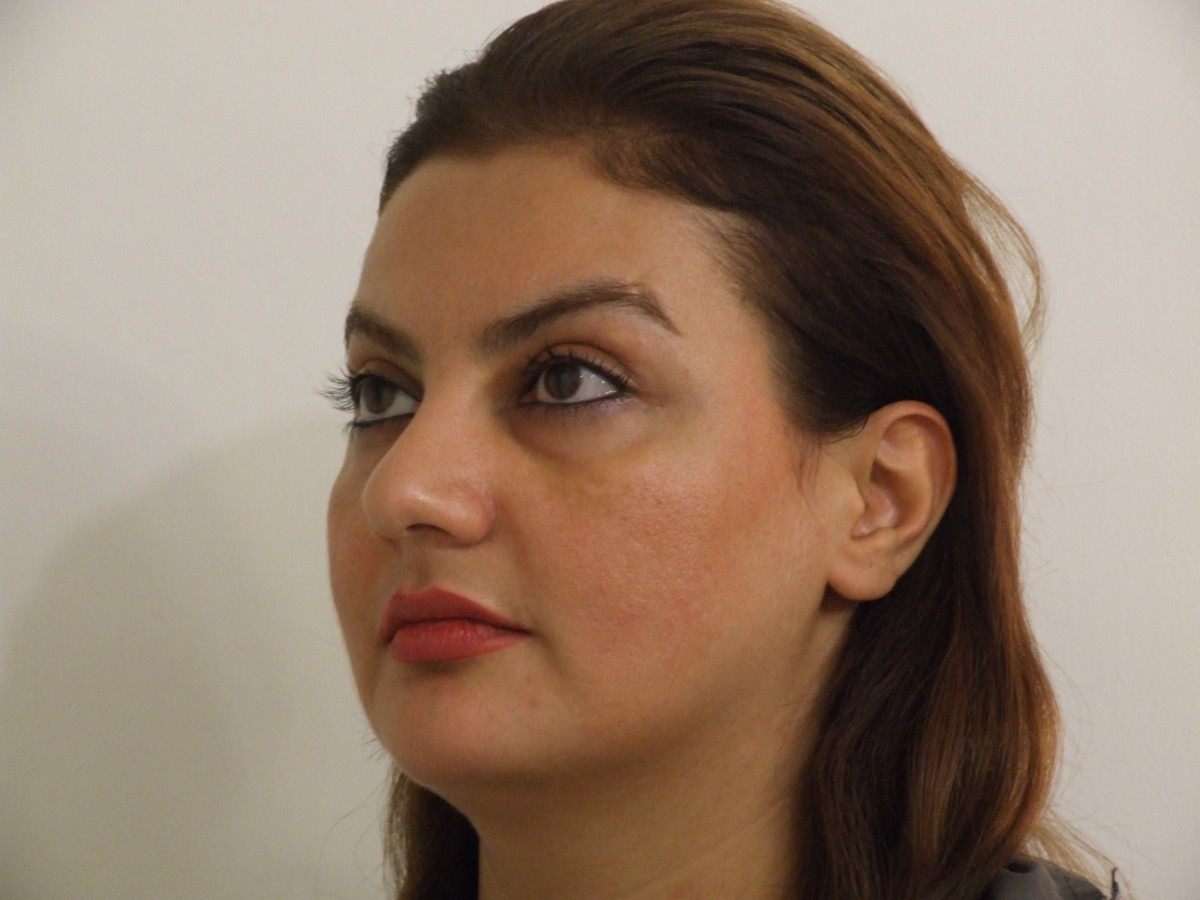neo: (519, 688, 563, 728)
occhiaia: (472, 401, 707, 476)
